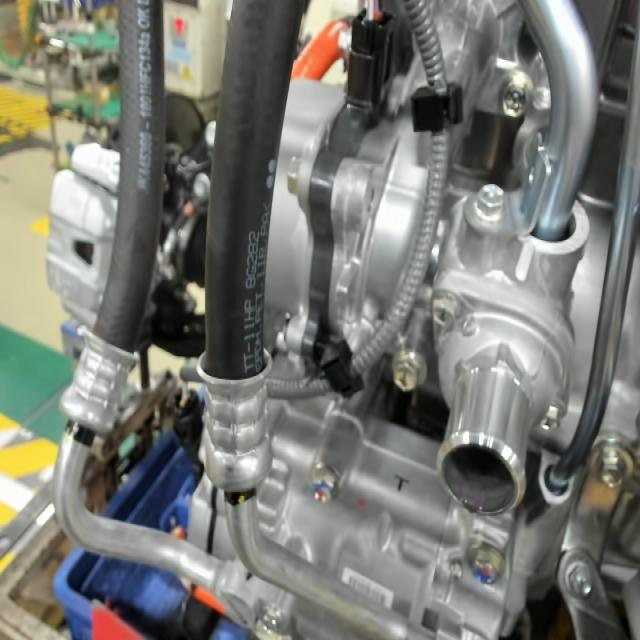Compressor-T: (388, 468, 414, 497)
